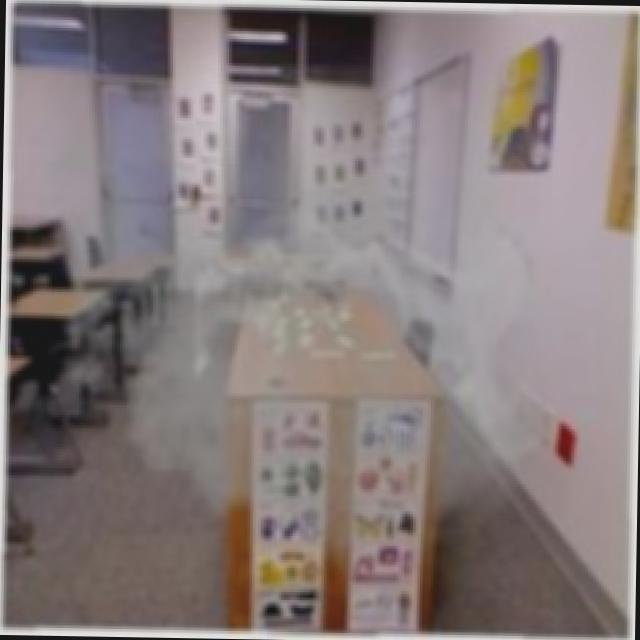smoke: (142, 226, 514, 450)
